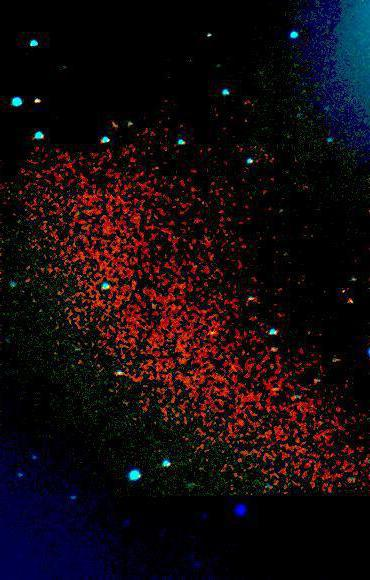star: (335, 285, 365, 315)
